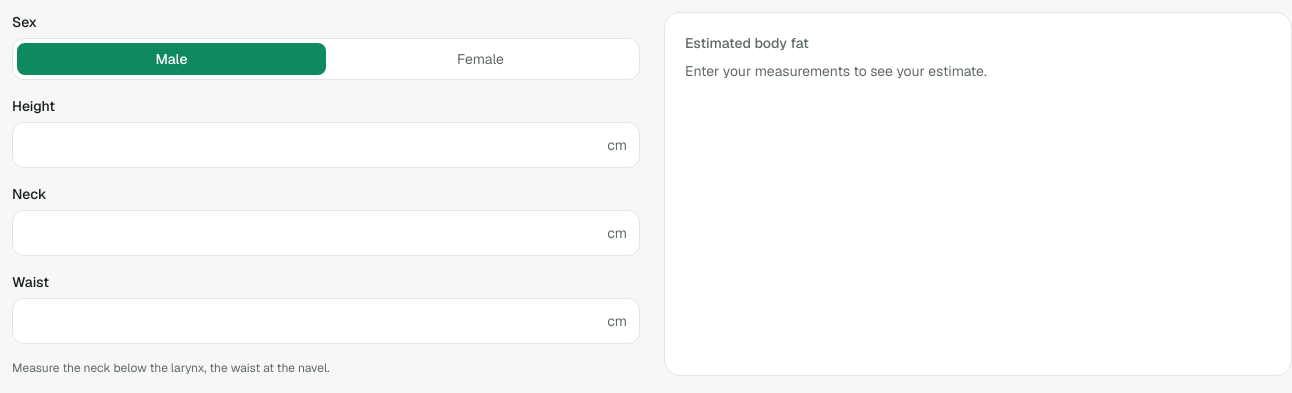
Test: BodyFatCalculator › flags implausible measurements instead of showing a number
Type "180" into the number field labelled "Height".
click(310, 145); type("180")  # box 13,123 -> 607,167
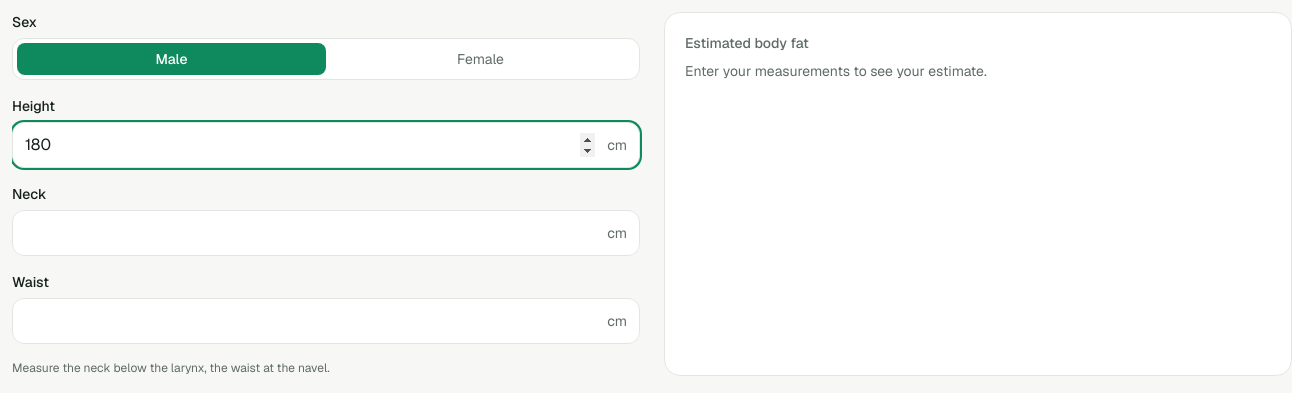
Type "60" into the number field labelled "Neck".
click(310, 233); type("60")  # box 13,211 -> 607,255
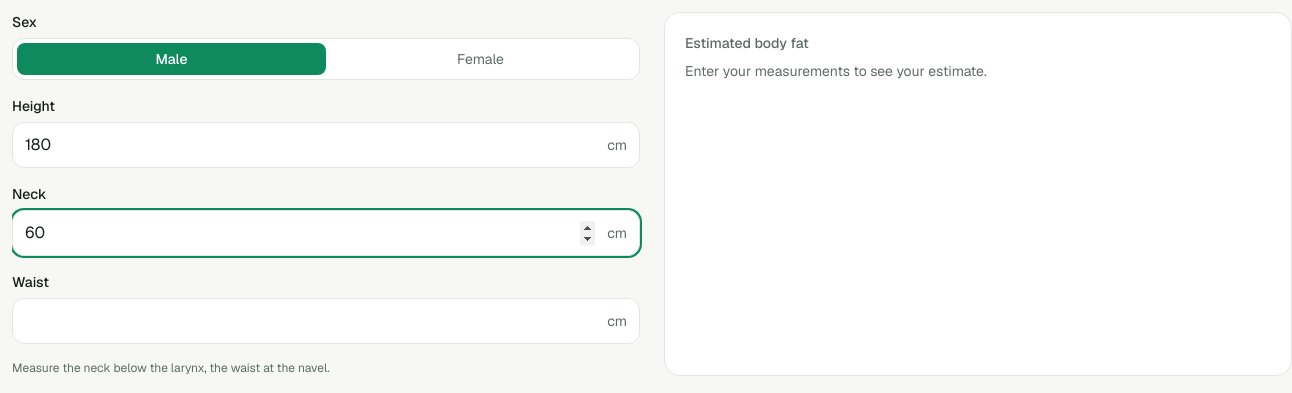
Type "50" into the number field labelled "Waist".
click(310, 321); type("50")  # box 13,299 -> 607,343
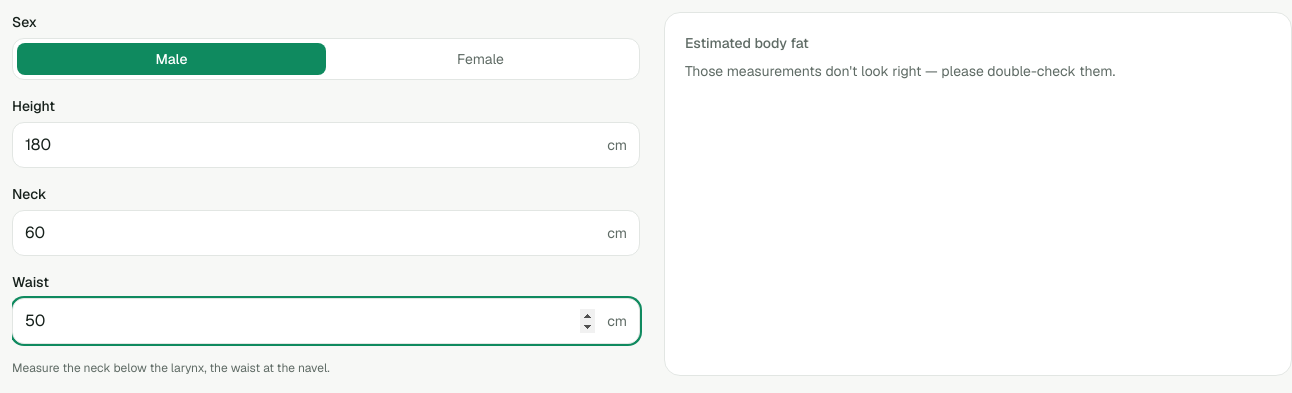
Check: the text "double-check" is shown, box 685,62 -> 1115,80
